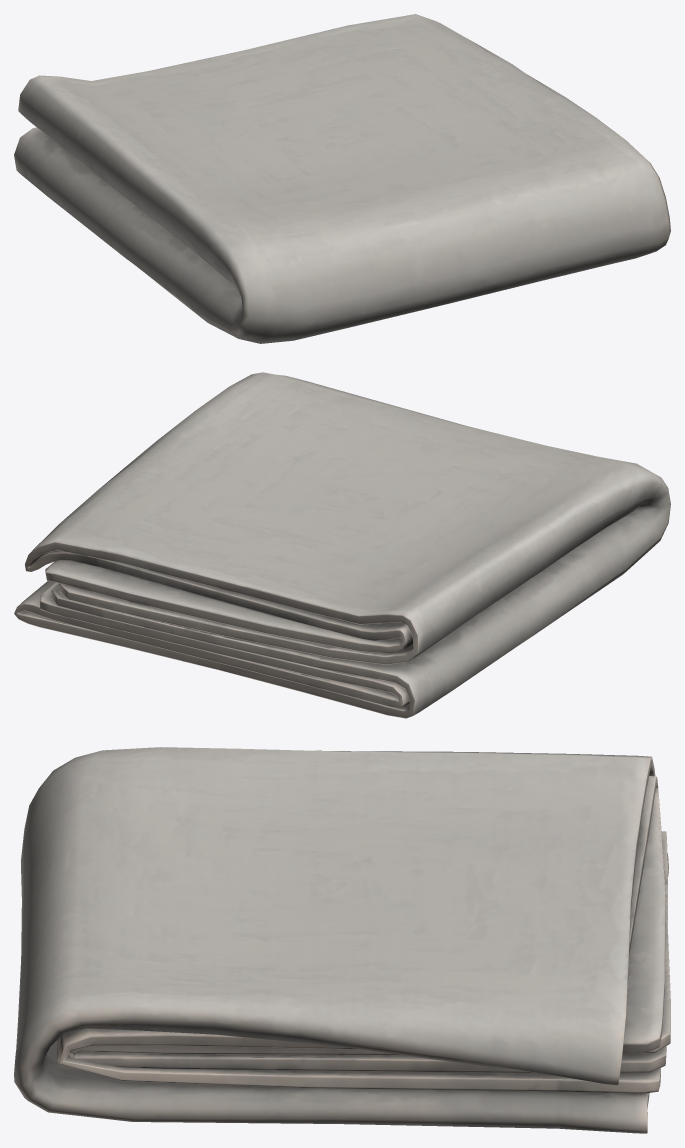
Rendered from SM_Towel_02.fbx.
The picture shows the model from 3 angles, top to bottom: view 1: azimuth 30°, elevation 25°; view 2: azimuth 150°, elevation 25°; view 3: azimuth 270°, elevation 25°; orthographic projection. The views are drawn at different scales.
Visible parts, largest first — view 1: SM_Towel_02_LOD0; view 2: SM_Towel_02_LOD0; view 3: SM_Towel_02_LOD0.
Boxes of the visible parts, x1=… form: SM_Towel_02_LOD0: x1=14, y1=14, x2=670, y2=343; SM_Towel_02_LOD0: x1=14, y1=372, x2=670, y2=718; SM_Towel_02_LOD0: x1=14, y1=747, x2=670, y2=1133.
Size of the model in its own units: 34.52 by 35.4 by 8.01.
1 material, 1 textured.
